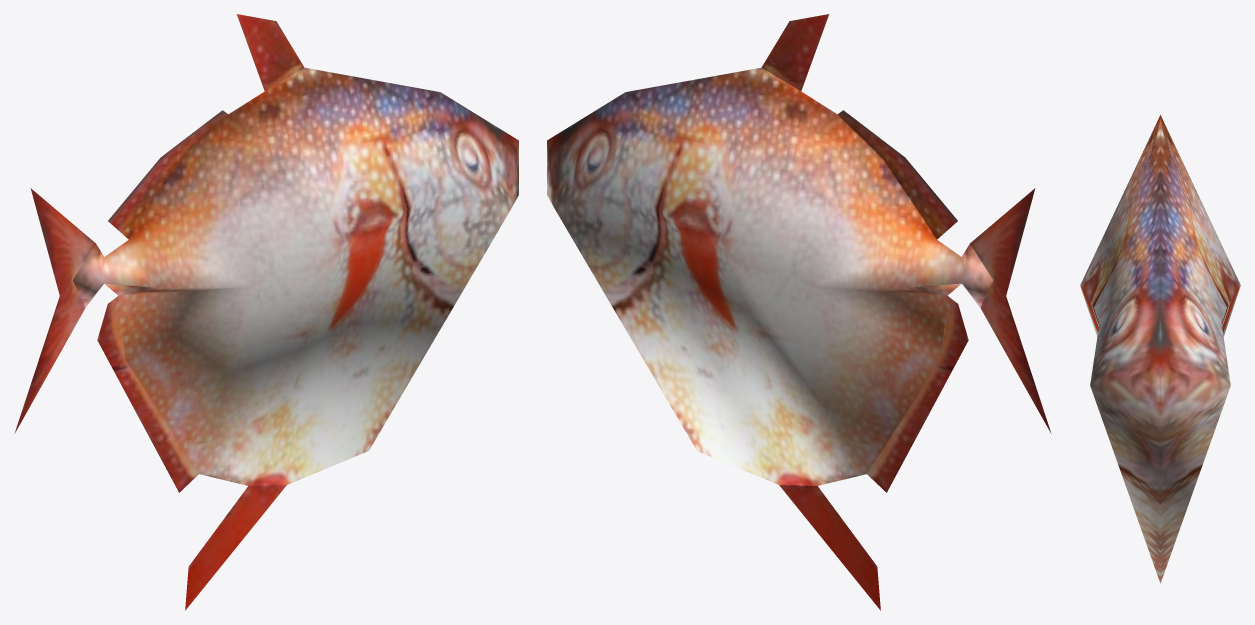
File: moonfish.obj
3 views of the same model, side by side, from view 1: azimuth 30°, elevation 25°; view 2: azimuth 150°, elevation 25°; view 3: azimuth 270°, elevation 25° (orthographic). The views are drawn at different scales.
Bounding box in the file's own units: 1.59 × 1.76 × 0.4107.
Materials: 1 (1 with a texture image).
